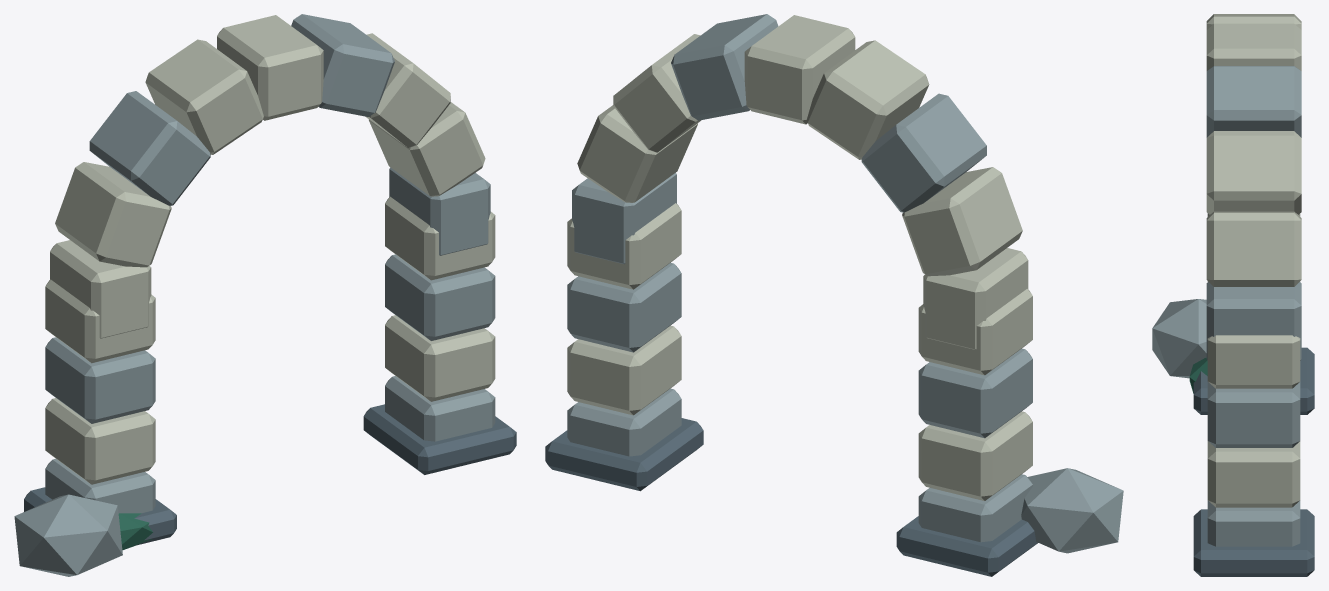
File: ruin-arch.glb
3 views of the same model, side by side, from view 1: azimuth 30°, elevation 25°; view 2: azimuth 150°, elevation 25°; view 3: azimuth 270°, elevation 25° (orthographic). The views are drawn at different scales.
Visible parts, largest first — view 1: arch-stone.007, arch-stone.005, arch-stone.006, arch-stone.004, fallen-masonry, pillar-stone.001, pillar-stone.002, pillar-stone.005, pillar-stone.006, arch-stone.003, arch-stone.008, arch-stone.001 (+9 smaller); view 2: arch-stone.007, arch-stone.005, arch-stone.006, arch-stone.004, pillar-stone.001, pillar-stone.005, pillar-stone.002, pillar-stone.006, fallen-masonry, arch-stone.003, arch-stone.008, arch-stone.001 (+8 smaller); view 3: arch-stone.002, arch-stone.001, arch-stone.003, pillar-stone.005, pillar-stone.006, pillar-stone.007, arch-stone, pillar-foot.001, arch-stone.004, pillar-stone.004, fallen-masonry, pillar-foot (+2 smaller).
Boxes of the visible parts, <box> form: arch-stone.007: <box>55,162,171,267</box>; arch-stone.005: <box>145,39,263,154</box>; arch-stone.006: <box>89,91,210,205</box>; arch-stone.004: <box>217,15,323,120</box>; fallen-masonry: <box>14,494,122,576</box>; pillar-stone.001: <box>45,398,155,484</box>; pillar-stone.002: <box>45,337,155,423</box>; pillar-stone.005: <box>385,315,495,401</box>; pillar-stone.006: <box>385,254,495,340</box>; arch-stone.003: <box>291,14,394,116</box>; arch-stone.008: <box>50,240,151,338</box>; arch-stone.001: <box>369,102,485,196</box>; arch-stone.007: <box>902,167,1022,276</box>; arch-stone.005: <box>806,40,929,159</box>; arch-stone.006: <box>861,93,986,212</box>; arch-stone.004: <box>744,15,855,124</box>; pillar-stone.001: <box>918,411,1032,500</box>; pillar-stone.005: <box>567,325,681,415</box>; pillar-stone.002: <box>918,348,1032,438</box>; pillar-stone.006: <box>567,262,681,352</box>; fallen-masonry: <box>1021,468,1123,553</box>; arch-stone.003: <box>671,14,778,120</box>; arch-stone.008: <box>923,248,1028,349</box>; arch-stone.001: <box>577,105,697,202</box>; arch-stone.002: <box>1206,131,1301,214</box>; arch-stone.001: <box>1206,211,1301,286</box>; arch-stone.003: <box>1206,66,1301,137</box>; pillar-stone.005: <box>1207,441,1300,507</box>; pillar-stone.006: <box>1207,382,1300,447</box>; pillar-stone.007: <box>1207,335,1300,388</box>; arch-stone: <box>1206,282,1301,360</box>; pillar-foot.001: <box>1193,509,1314,576</box>; arch-stone.004: <box>1206,23,1301,70</box>; pillar-stone.004: <box>1207,500,1300,546</box>; fallen-masonry: <box>1152,299,1206,378</box>; pillar-foot: <box>1193,347,1314,414</box>.
Size of the model in its own units: 4.55 by 4.05 by 1.31.
